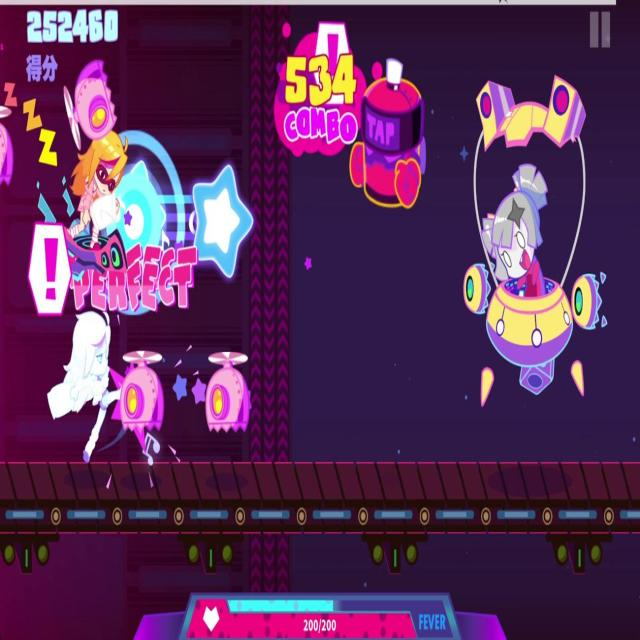hold: (113, 152, 256, 288)
jiqiqiu: (59, 57, 121, 149), (202, 347, 257, 436), (119, 348, 168, 435)
qiangboss: (465, 67, 612, 408)
tapboss: (354, 49, 429, 211)
